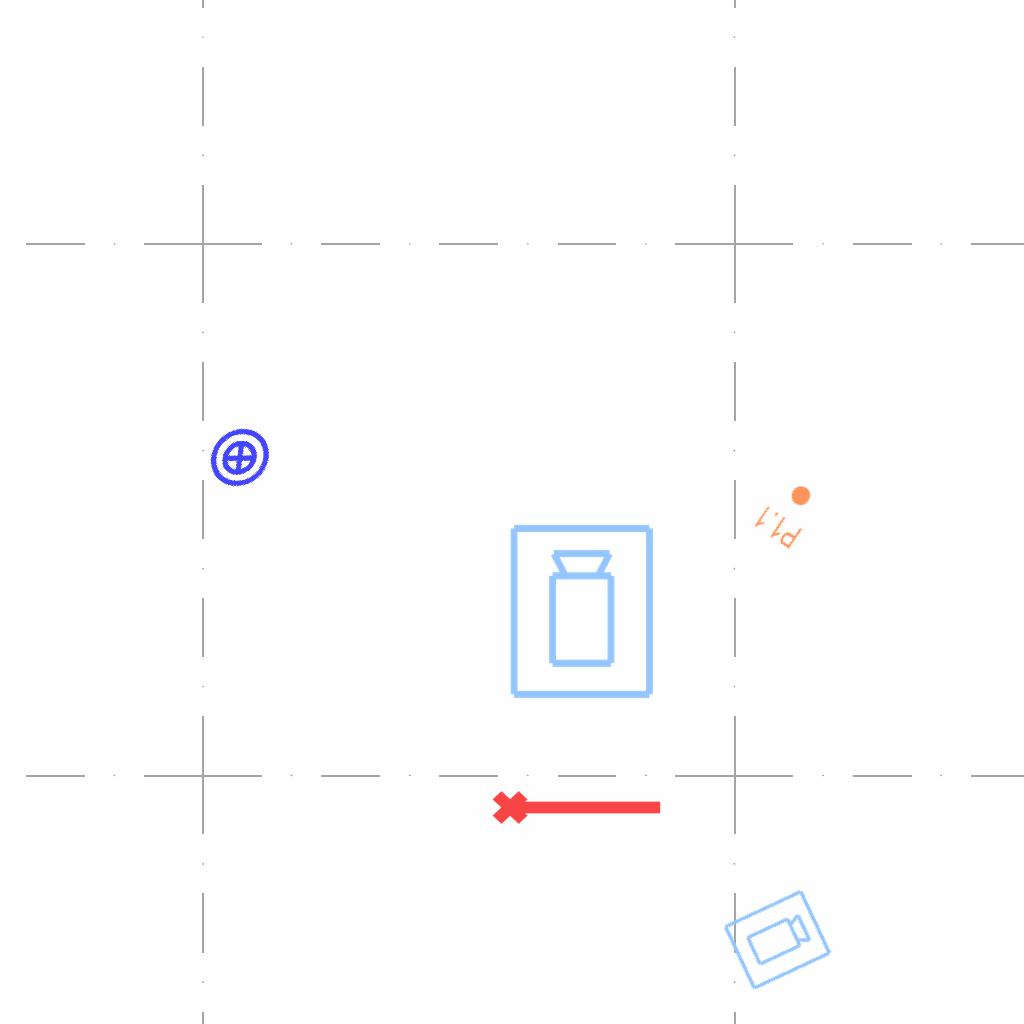ASR_Ansaugoeffnung: (490, 782, 666, 828)
Downlight_LED_Einbauleuchten_Flur: (751, 472, 825, 552)
KFO_Kamera_mit_Festobjektiv: (506, 521, 660, 703), (719, 886, 836, 995)
Taster_beleuchtet: (193, 411, 287, 505)
